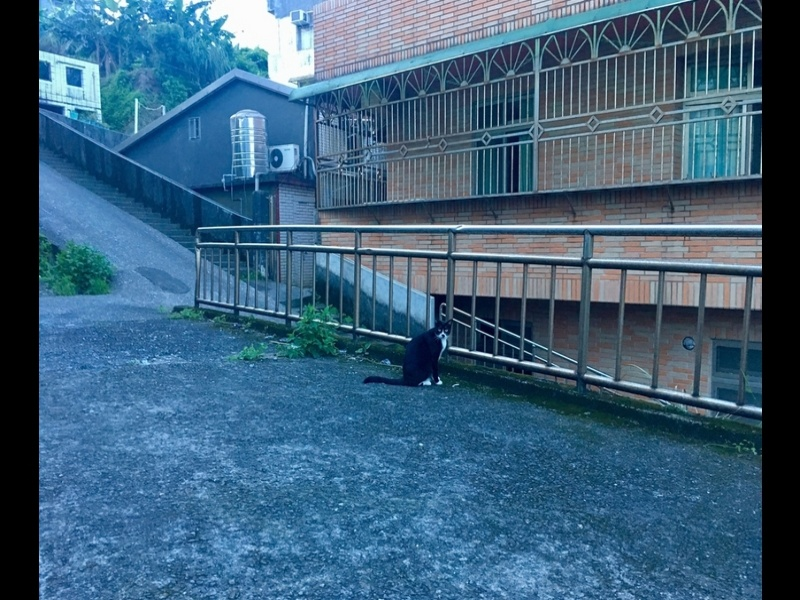cat: (364, 316, 454, 392)
